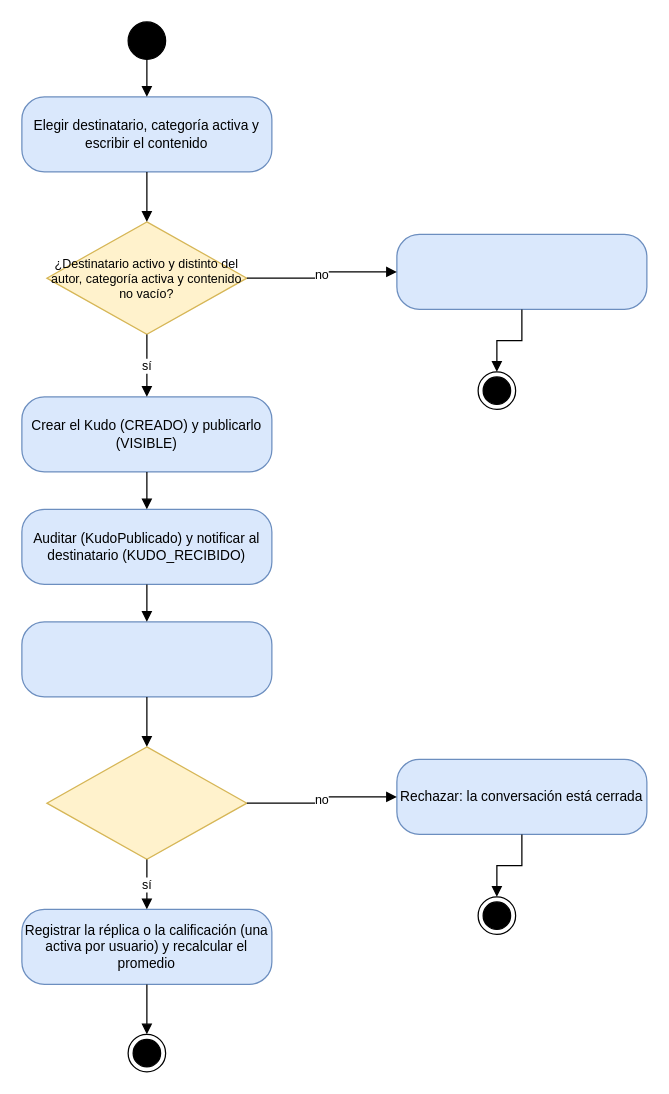
Some shapes in this 669 by 1094 pixel diagram are drawn without their labels. The shapes that lost their labels are listed below. From the top down, each one's centre as x and y in pixels, then its label:
the point at 521,271: Mostrar el error
the point at 146,659: Otros usuarios responden o califican
the point at 146,802: ¿El Kudo o la réplica admite interacción (no vetado)?
